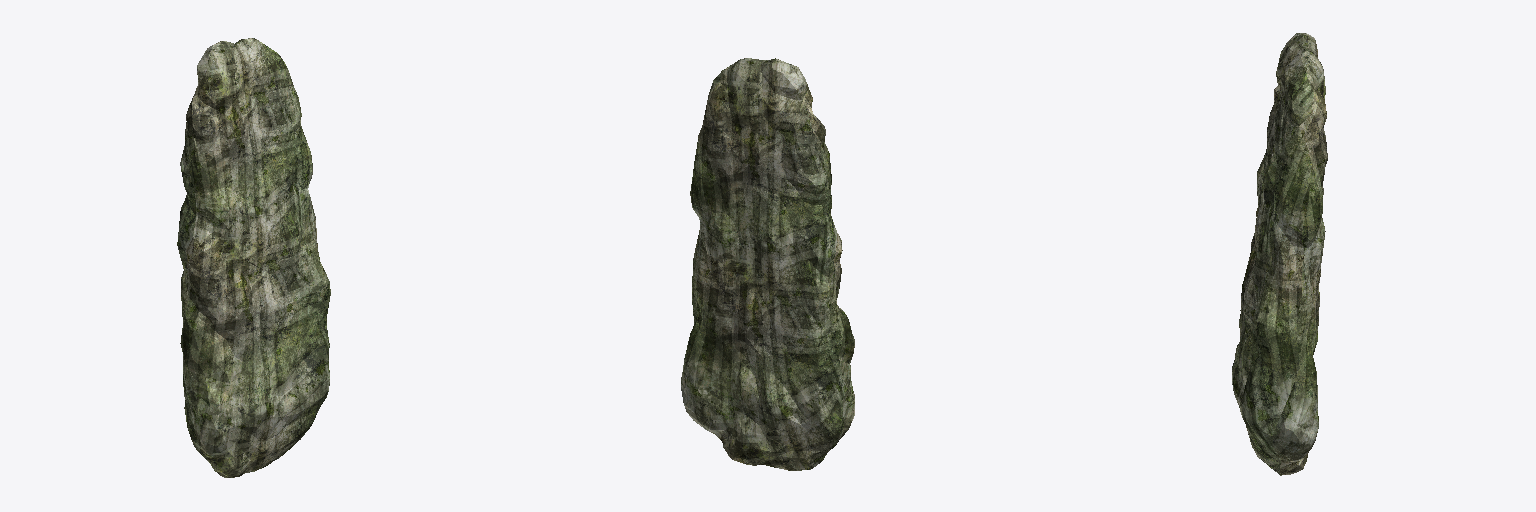
3 renders of one model, left to right at view 1: azimuth 30°, elevation 25°; view 2: azimuth 150°, elevation 25°; view 3: azimuth 270°, elevation 25°, orthographic.
Visible parts, largest first — view 1: stonrhedge00_stonrhedge00Shape.001; view 2: stonrhedge00_stonrhedge00Shape.001; view 3: stonrhedge00_stonrhedge00Shape.001.
Boxes of the visible parts, box(x1,y1,x2,y2) form: stonrhedge00_stonrhedge00Shape.001: box(177, 38, 330, 477); stonrhedge00_stonrhedge00Shape.001: box(681, 58, 854, 470); stonrhedge00_stonrhedge00Shape.001: box(1232, 33, 1327, 475).
Size of the model in its own units: 9.33 by 24.02 by 4.95.
Materials: 1 (1 with a texture image).